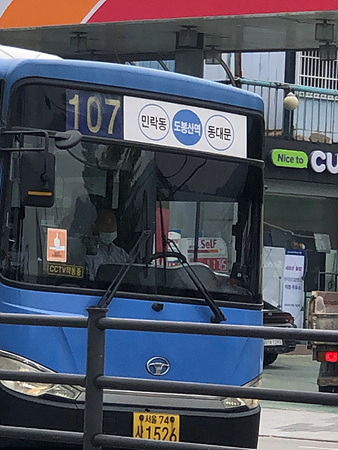bnum: (64, 92, 123, 134)
